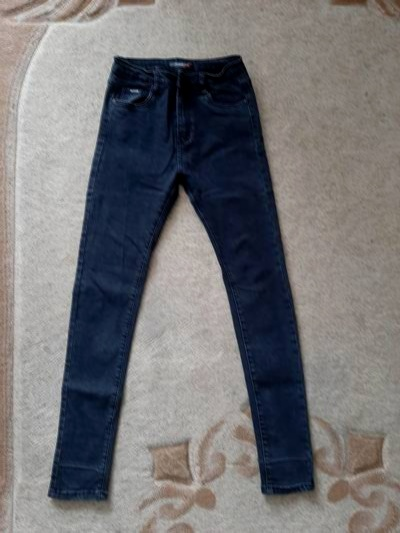Pants: (44, 55, 341, 509)
